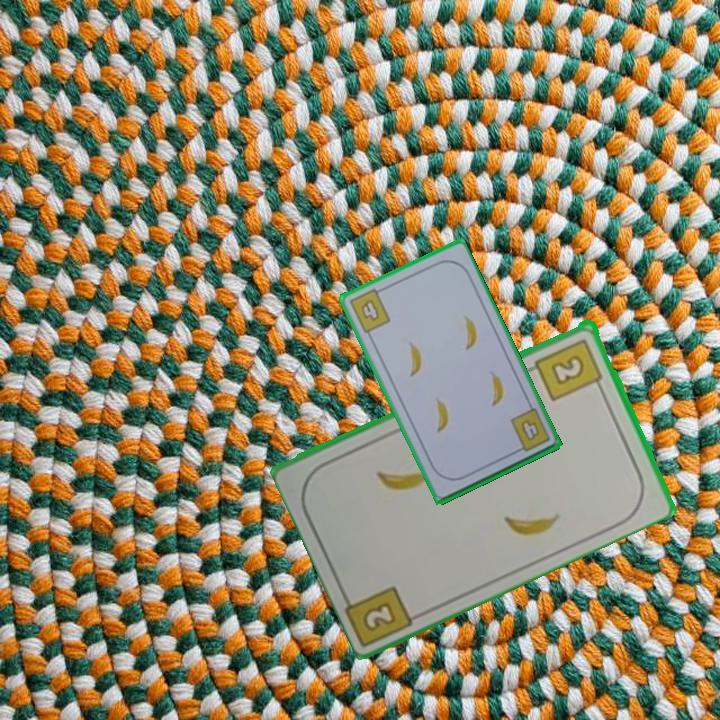2b: (532, 334, 606, 404), (359, 598, 399, 634)
4b: (345, 284, 393, 336), (506, 405, 553, 456)
